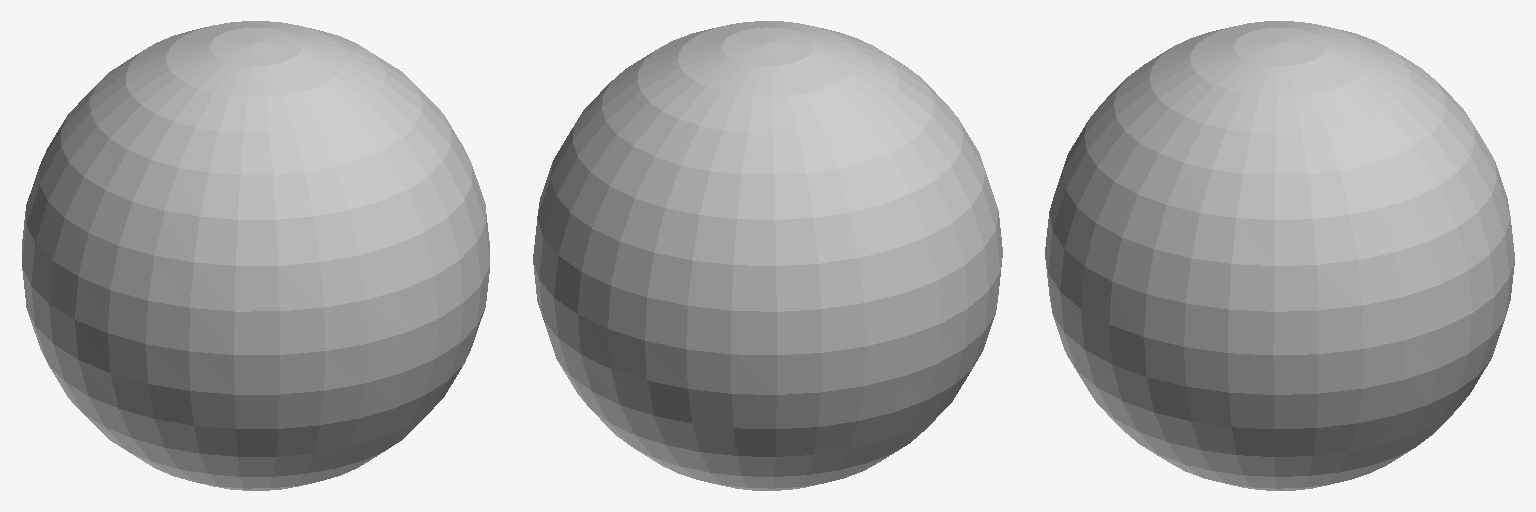
The model's file is Mercury.obj.
3 views of the same model, side by side, from view 1: azimuth 30°, elevation 25°; view 2: azimuth 150°, elevation 25°; view 3: azimuth 270°, elevation 25° (orthographic).
Visible parts, largest first — view 1: 55; view 2: 55; view 3: 55.
Part boxes in pixels (left/top/right/bottom): 55: left=22, top=21, right=489, bottom=490; 55: left=533, top=21, right=1002, bottom=490; 55: left=1045, top=21, right=1514, bottom=490.
Size of the model in its own units: 1.28 by 1.28 by 1.28.